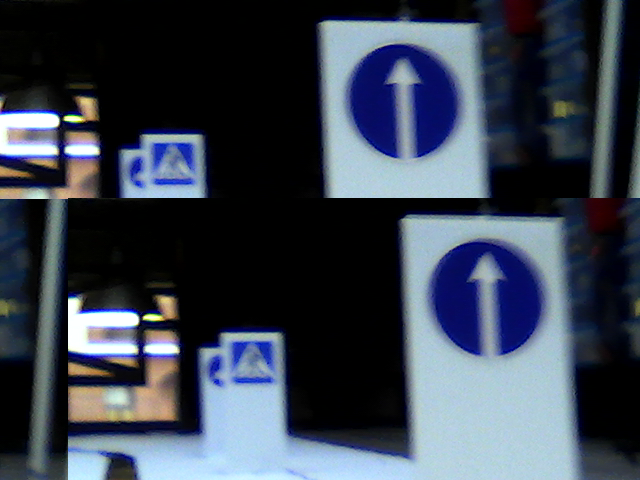forw: (423, 238, 545, 353), (347, 44, 450, 154)
pesh: (153, 141, 198, 189), (229, 338, 273, 382)
